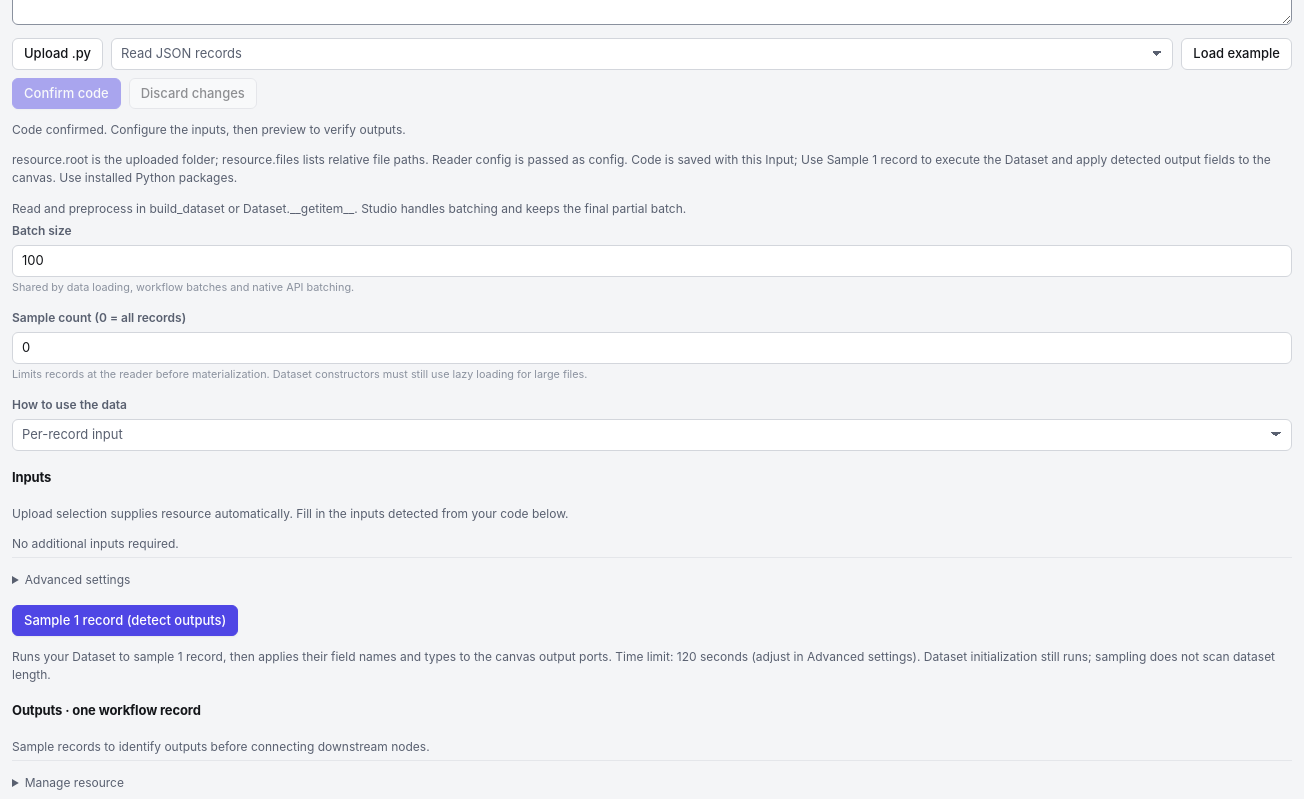
Scenario: DataLoader input › samples records and applies their fields to the canvas
The image size is (1304, 799).
(page scrolled)
Click the button "Sample 1 record (detect outputs)": point(125, 620) [12, 605, 238, 636]
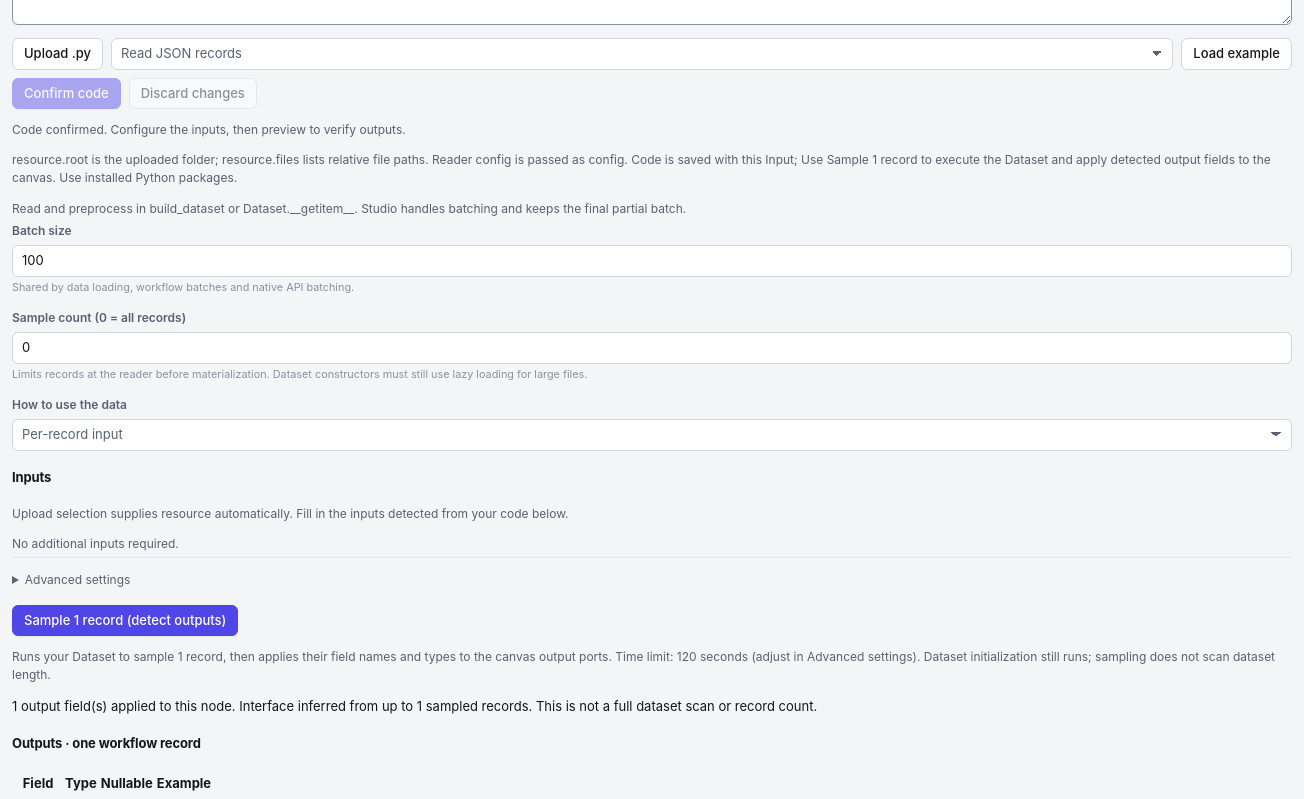
Now the text "1 output field(s) applied to this node" is shown, box [12, 698, 817, 714]
